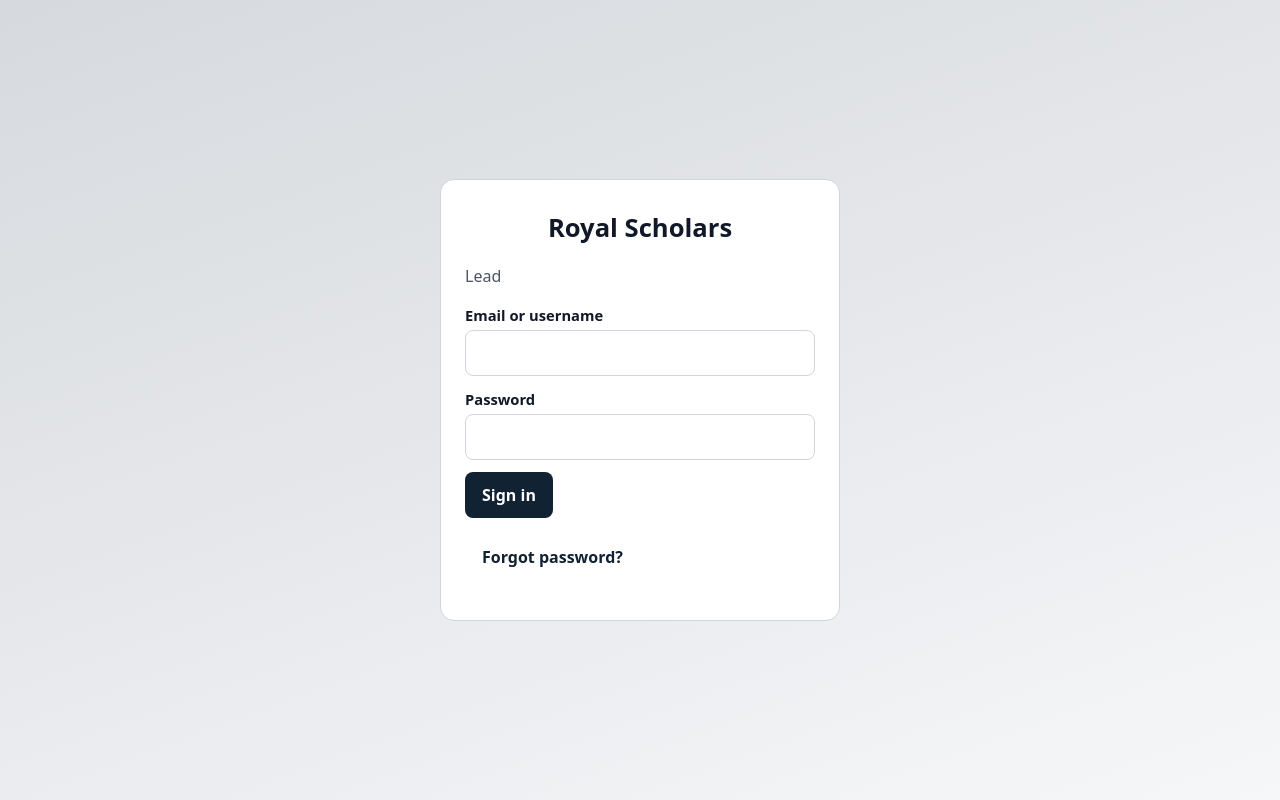
Scenario: school login › wrong password shows a friendly message, never a technical one
Type "a@b.com" into the field labelled "Email or username" at (640, 353), box [465,330,815,376]
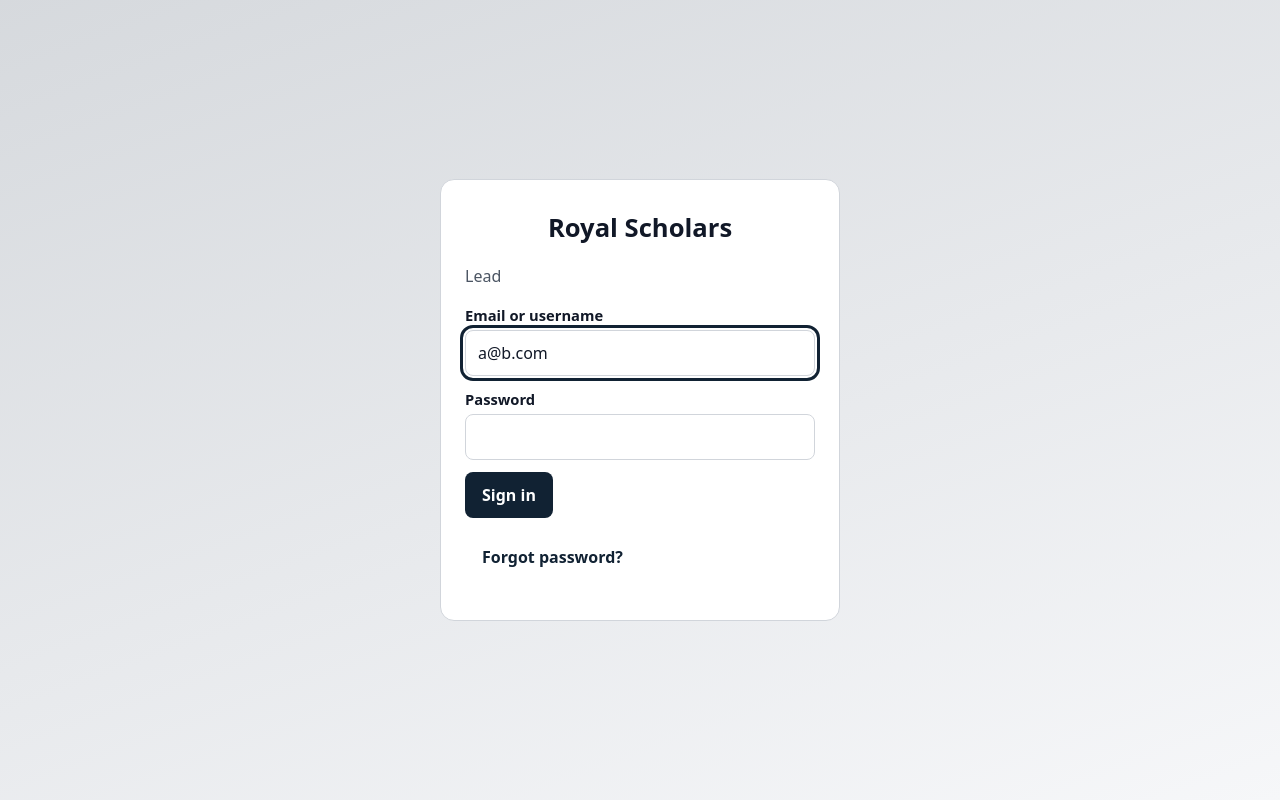
Type "x" into the password field labelled "Password" at (640, 437), box [465,414,815,460]
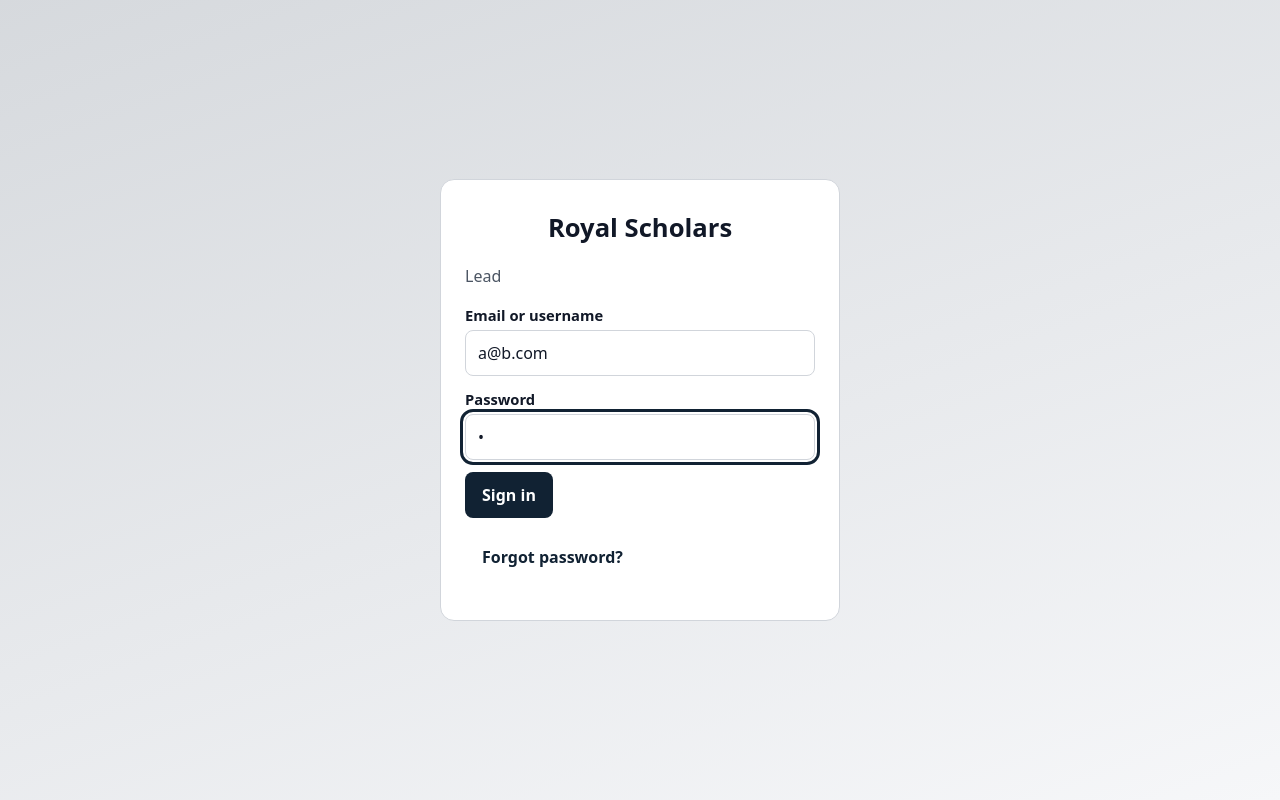
Click the button "Sign in" at (509, 495), box [465,472,553,518]
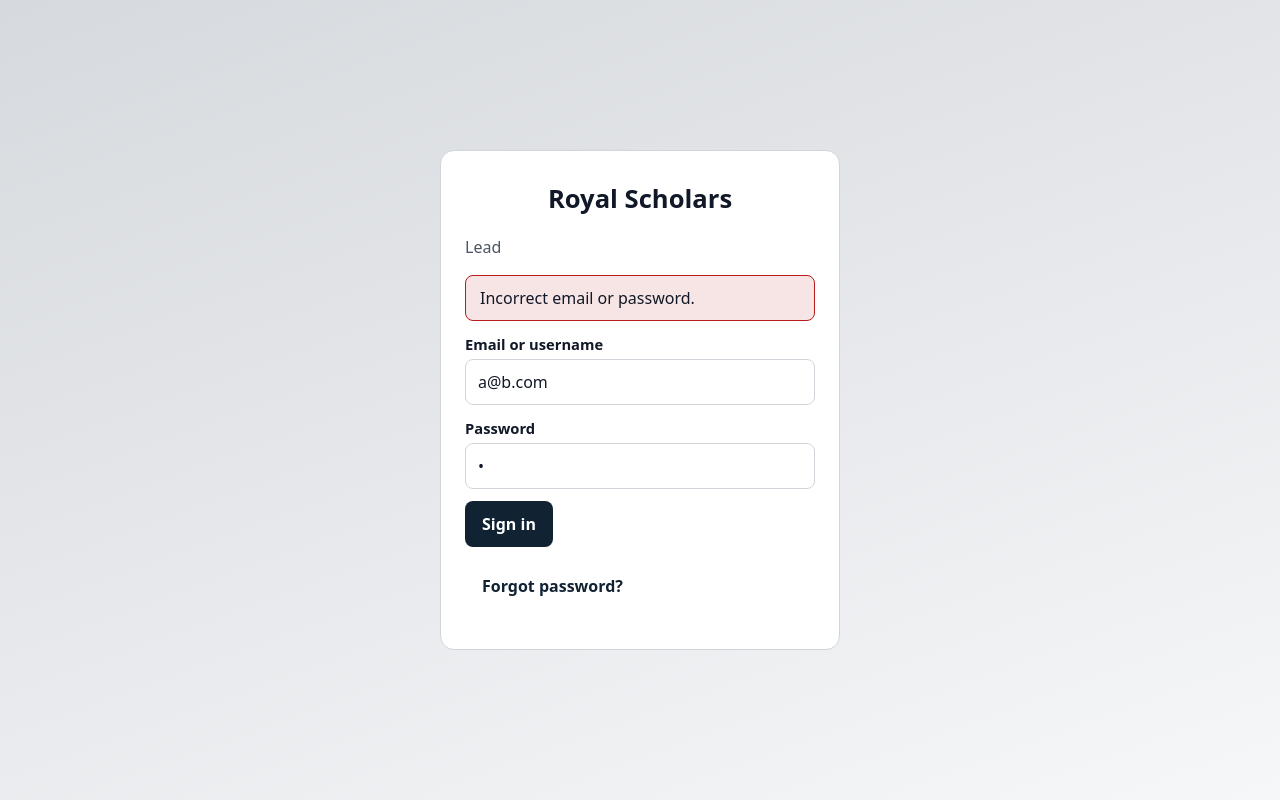
Check: the message reads "Incorrect email or password.", box [480,287,695,309]
